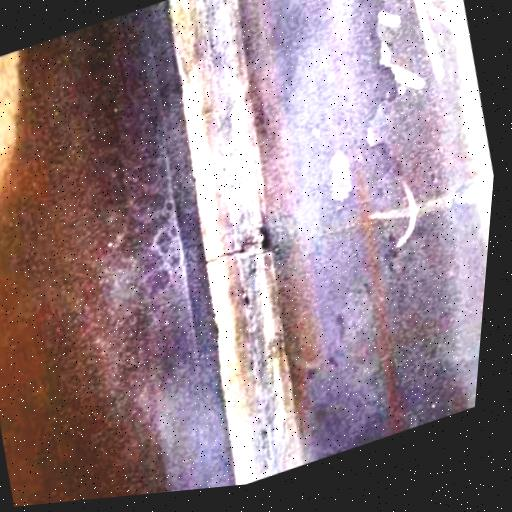crack: (195, 232, 254, 273)
